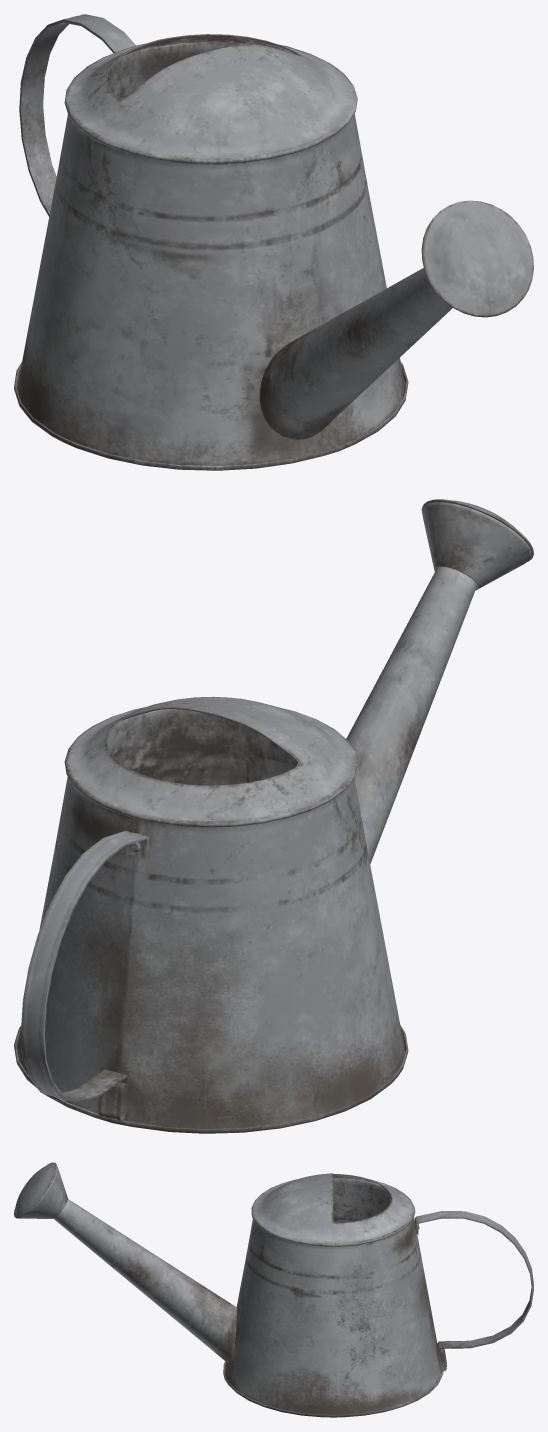
The model's file is watering_can_metal_01.glb.
The picture shows the model from 3 angles, top to bottom: view 1: azimuth 30°, elevation 25°; view 2: azimuth 150°, elevation 25°; view 3: azimuth 270°, elevation 25°; orthographic projection. The views are drawn at different scales.
Parts seen in each view (by area): view 1: watering_can_metal_01; view 2: watering_can_metal_01; view 3: watering_can_metal_01.
Boxes of the visible parts, x1,y1,x2,y2 form: watering_can_metal_01: (14,14,533,470); watering_can_metal_01: (14,499,533,1133); watering_can_metal_01: (14,1162,533,1417).
Size of the model in its own units: 0.191 by 0.1968 by 0.4523.
Materials: 1 (1 with a texture image).
